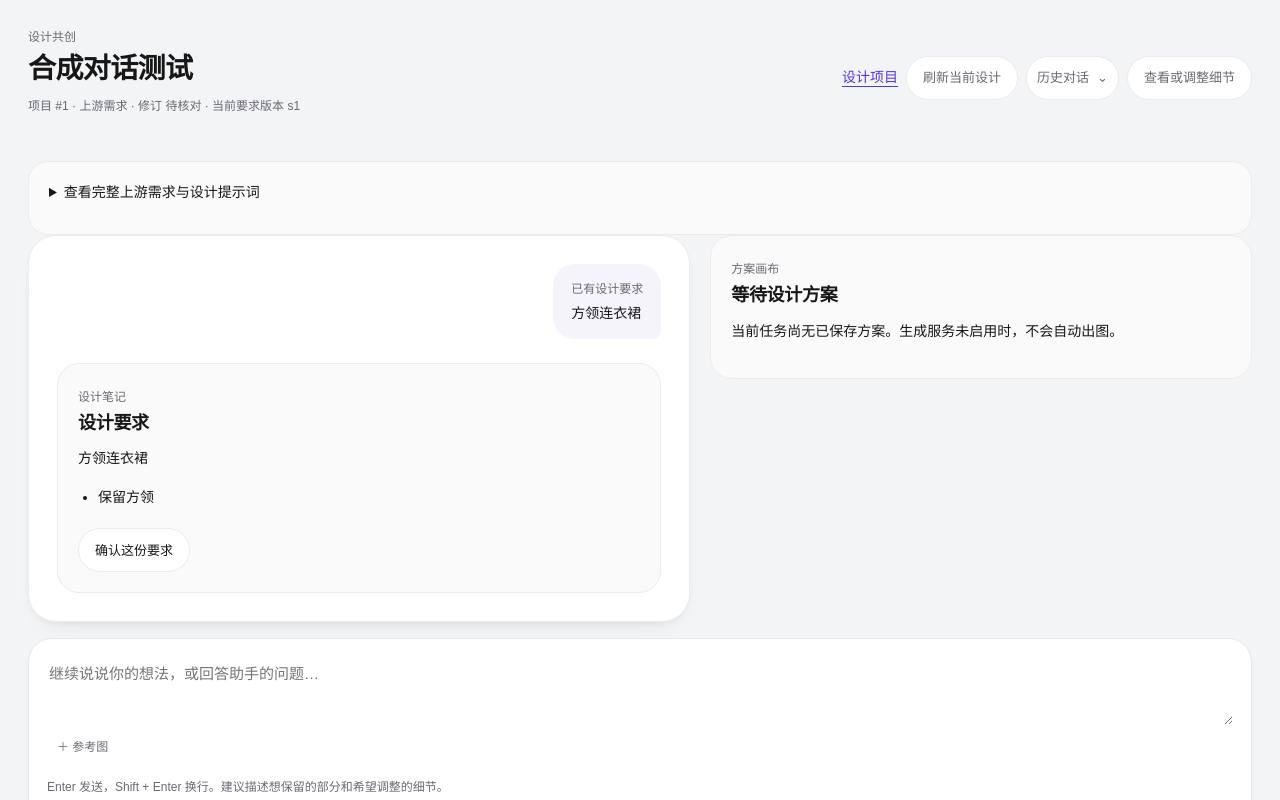
Test case: 确认要求后进入风格规划，图片未启用时仍可保存规划
expect the text box labelled "发消息给设计助手" is shown: met, box [47,653,1233,725]
Click the button "确认这份要求": [134, 550] box [78,528,190,572]
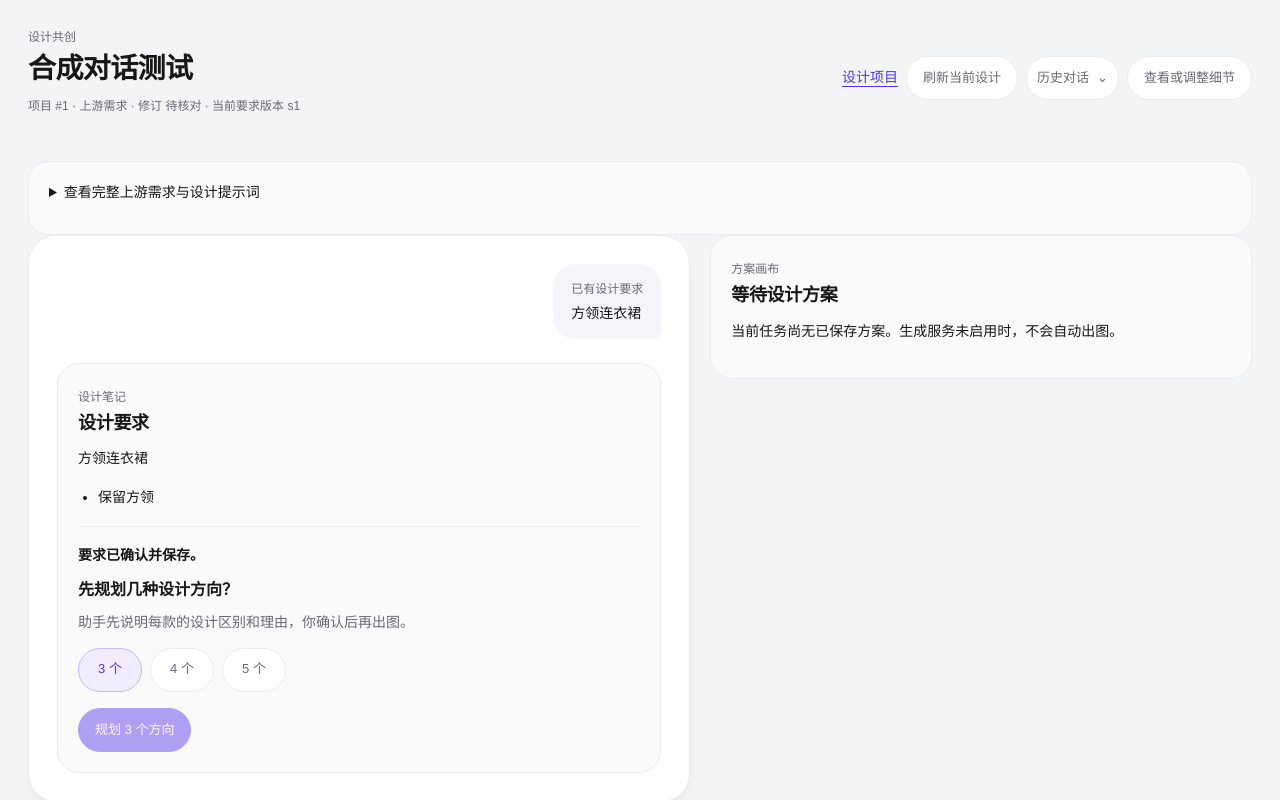
expect the text "要求已确认并保存。" is shown: met, box [78,547,204,563]
expect the heading "先规划几种设计方向？" is shown: met, box [78,582,238,598]
expect the button "规划 3 个方向" is shown: met, box [78,708,192,752]
